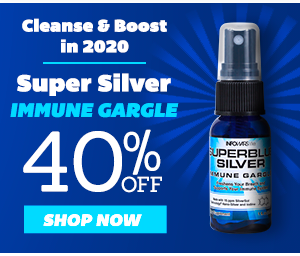fake_button: (19, 203, 170, 241)
